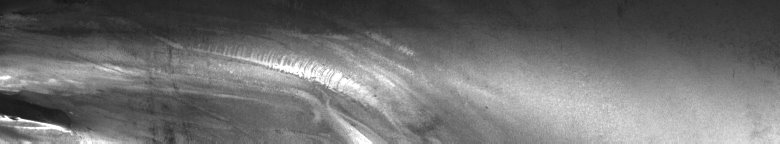ke: (4, 12, 416, 136)
